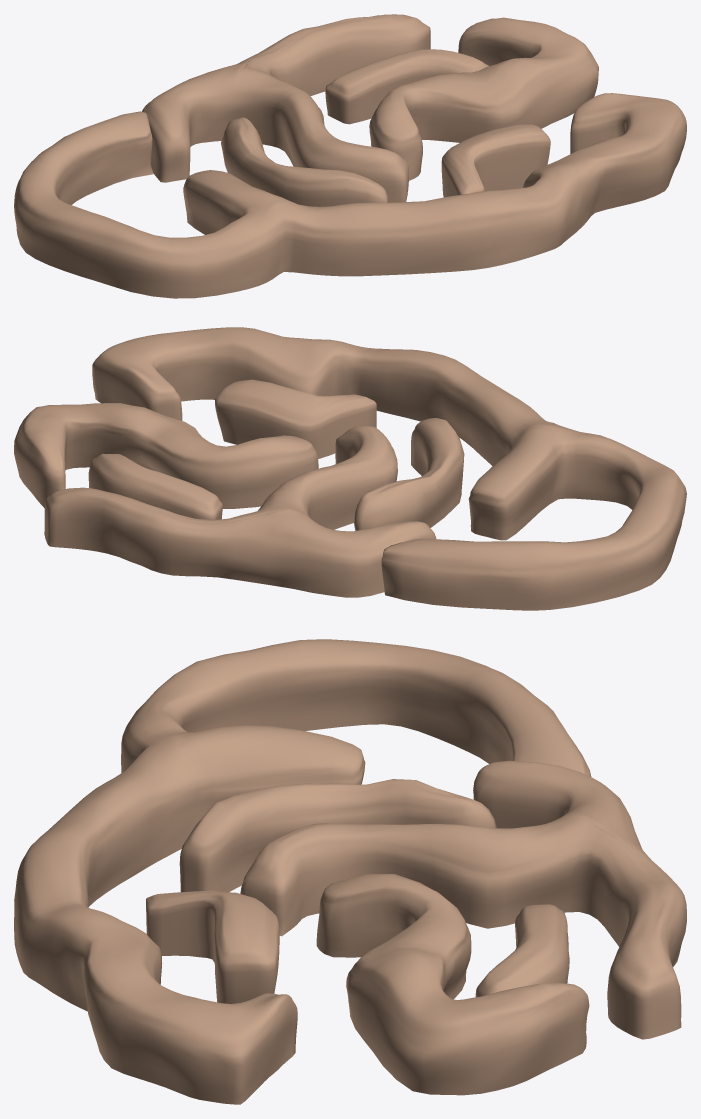
The model's file is SM_Hedges_L.fbx.
3 views of the same model, one above another, from view 1: azimuth 30°, elevation 25°; view 2: azimuth 150°, elevation 25°; view 3: azimuth 270°, elevation 25° (orthographic). The views are drawn at different scales.
Parts seen in each view (by area): view 1: Line014; view 2: Line014; view 3: Line014.
Part boxes in pixels (x1,y1,x2,y2): Line014: (14, 14, 686, 298); Line014: (14, 327, 686, 610); Line014: (14, 639, 686, 1104).
Bounding box in the file's own units: 1598 × 163 × 1117.
